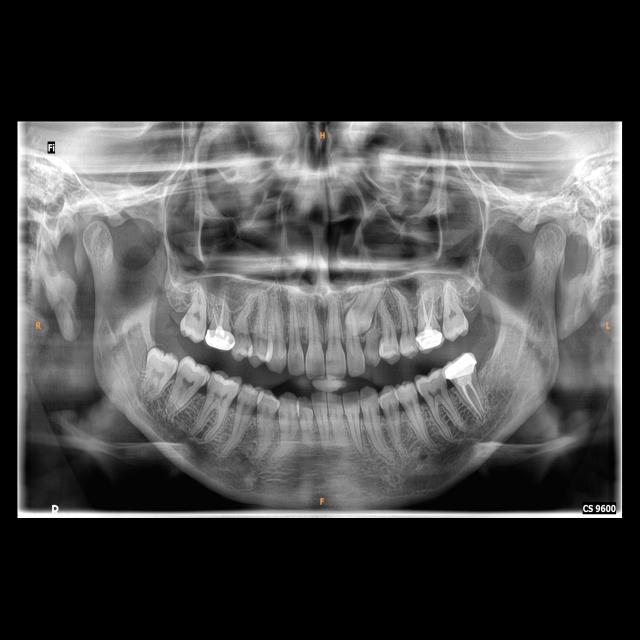kanal-tedavisi: (458, 380, 488, 421), (208, 294, 232, 332), (419, 292, 439, 332)
kaplama: (443, 351, 478, 381), (207, 327, 236, 352), (416, 330, 444, 349)
